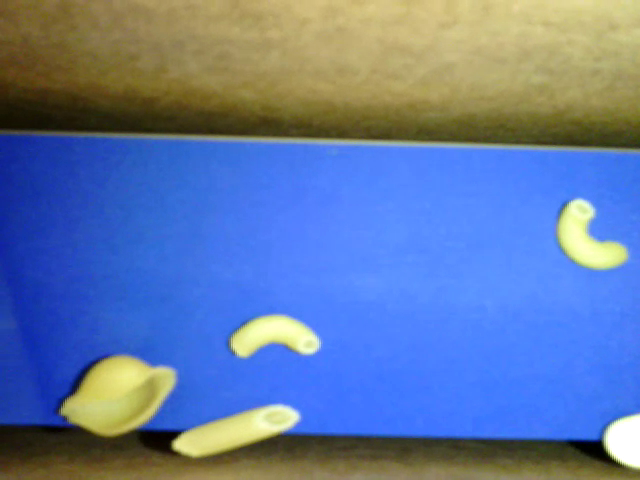elbow: (557, 198, 629, 272), (228, 315, 322, 358)
penne: (172, 404, 301, 458)
shell: (59, 349, 175, 438)
